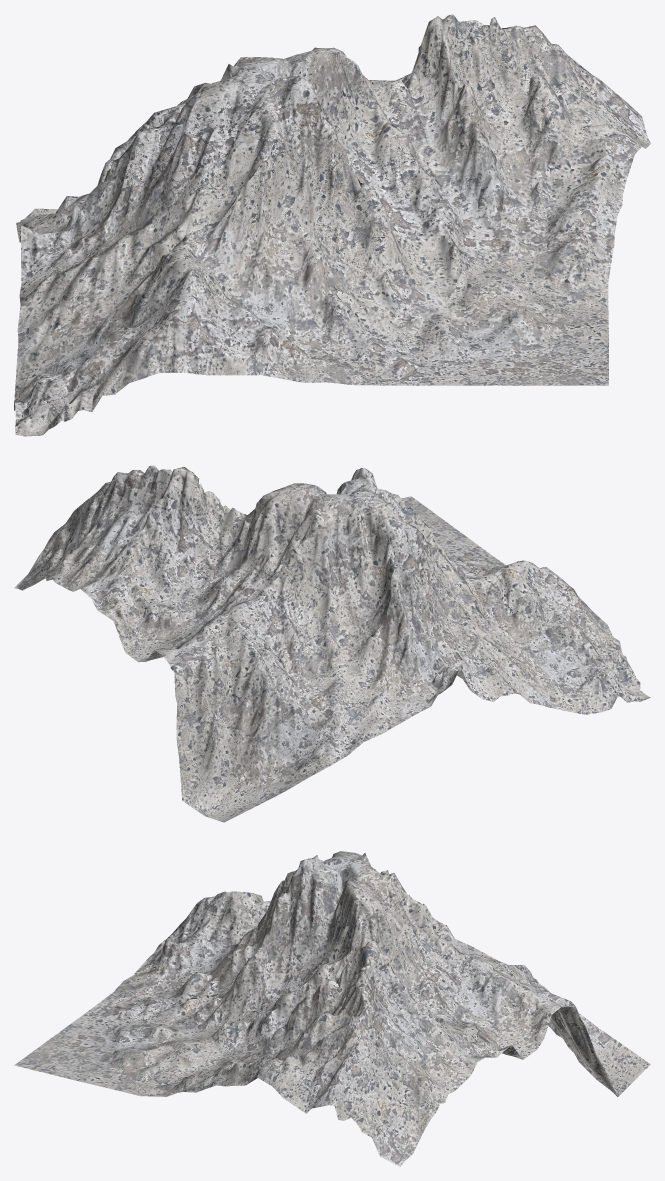
The model's file is SM_Mountain_01.fbx.
3 renders of one model, top to bottom at view 1: azimuth 30°, elevation 25°; view 2: azimuth 150°, elevation 25°; view 3: azimuth 270°, elevation 25°, orthographic. The views are drawn at different scales.
Parts seen in each view (by area): view 1: SM_Mountain_01_LOD0; view 2: SM_Mountain_01_LOD0; view 3: SM_Mountain_01_LOD0.
Part boxes in pixels (x1=…): SM_Mountain_01_LOD0: x1=14, y1=14, x2=650, y2=436; SM_Mountain_01_LOD0: x1=14, y1=465, x2=650, y2=822; SM_Mountain_01_LOD0: x1=14, y1=851, x2=650, y2=1166.
Size of the model in its own units: 161825 by 159969 by 65242.
1 material, 1 textured.
